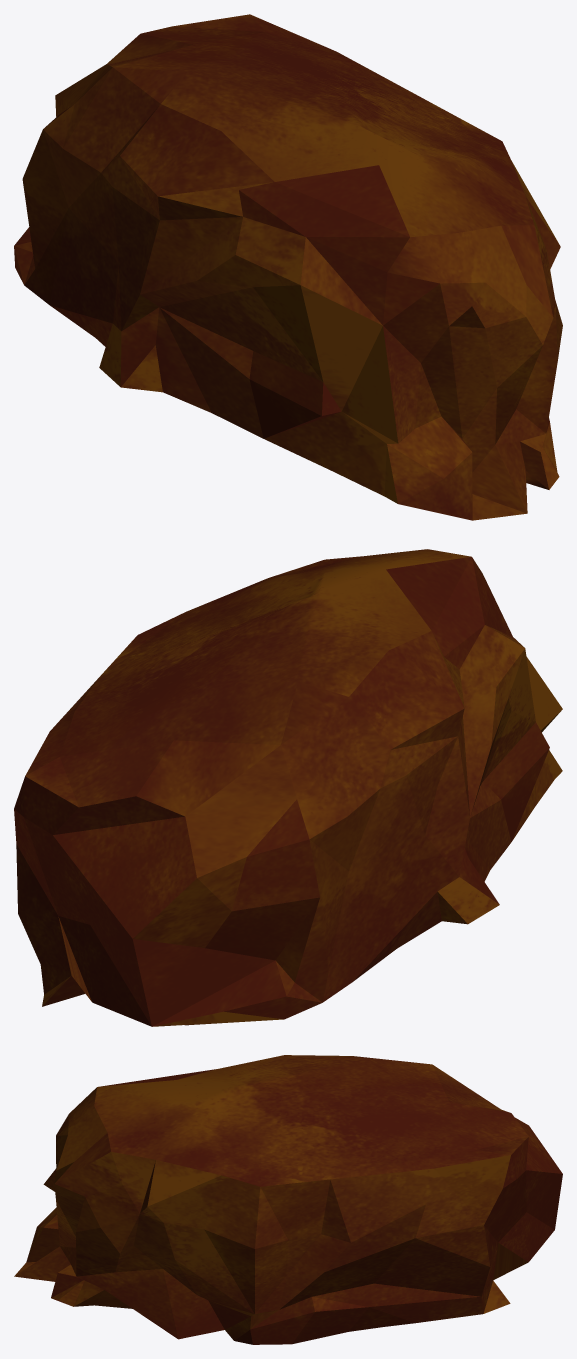
Rendered from roche3.fbx.
3 renders of one model, top to bottom at view 1: azimuth 30°, elevation 25°; view 2: azimuth 150°, elevation 25°; view 3: azimuth 270°, elevation 25°, orthographic. The views are drawn at different scales.
Parts seen in each view (by area): view 1: Ardanuy_Jette_Minji_TP1:Dague_combine1; view 2: Ardanuy_Jette_Minji_TP1:Dague_combine1; view 3: Ardanuy_Jette_Minji_TP1:Dague_combine1.
Part boxes in pixels (bbox=[...]): Ardanuy_Jette_Minji_TP1:Dague_combine1: bbox=[14, 14, 562, 520]; Ardanuy_Jette_Minji_TP1:Dague_combine1: bbox=[14, 549, 562, 1026]; Ardanuy_Jette_Minji_TP1:Dague_combine1: bbox=[14, 1055, 562, 1344].
Bounding box in the file's own units: 2.32 × 1.69 × 4.05.
